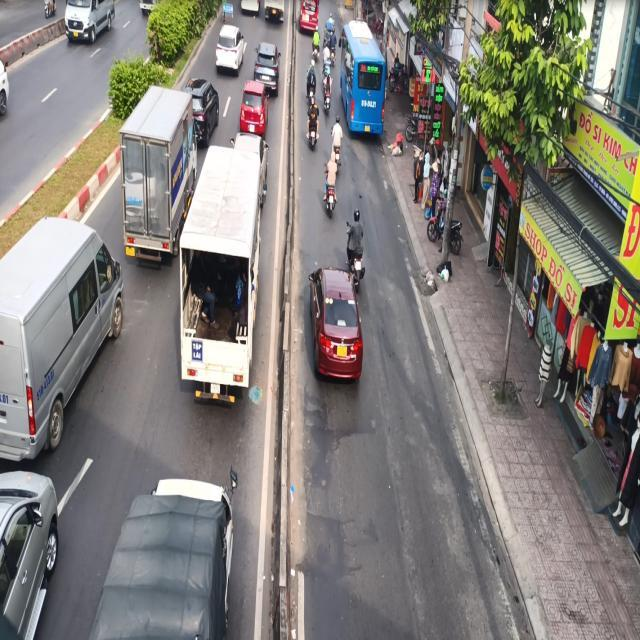bus: (338, 19, 386, 136)
car: (0, 215, 124, 462), (0, 469, 59, 639), (307, 266, 363, 382), (63, 0, 115, 44), (0, 58, 9, 116)
truck: (177, 131, 268, 405), (118, 84, 198, 268)
